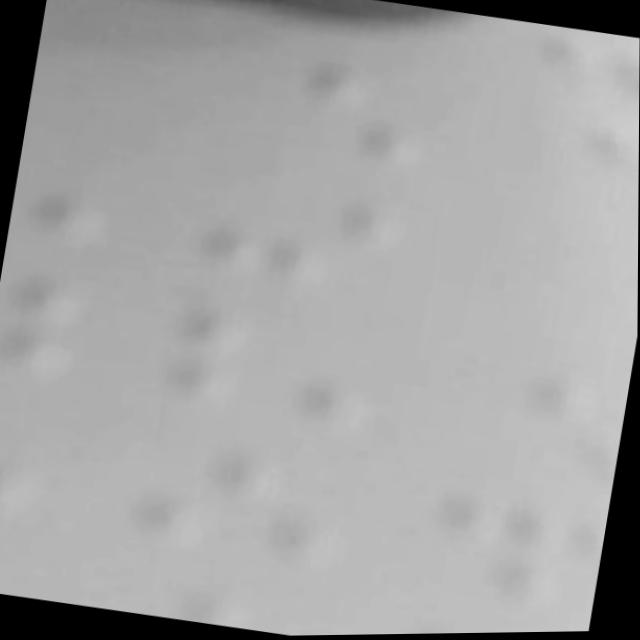braiile: (183, 146, 420, 302), (131, 421, 368, 576), (162, 278, 394, 433), (203, 20, 443, 169), (443, 343, 633, 492), (422, 473, 612, 616), (502, 81, 639, 227), (119, 569, 334, 639), (9, 122, 120, 248), (0, 250, 96, 381), (0, 392, 60, 519)
